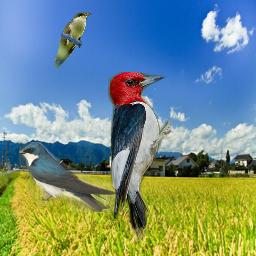Cuckoo: (53, 12, 92, 69)
Swallow: (19, 142, 117, 212)
Woodpecker: (105, 72, 177, 246)
